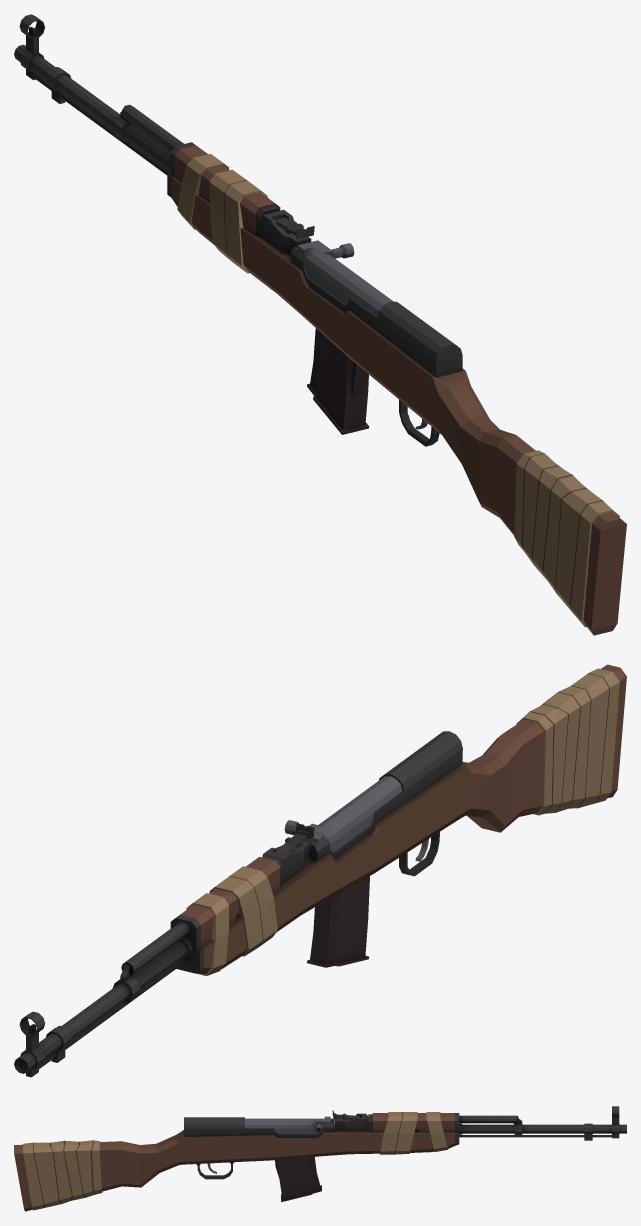
Rendered from sks.glb.
3 renders of one model, top to bottom at view 1: azimuth 30°, elevation 25°; view 2: azimuth 150°, elevation 25°; view 3: azimuth 270°, elevation 25°, orthographic. The views are drawn at different scales.
Parts seen in each view (by area): view 1: Body_lambert8_0, Wrap_stock_lambert8_0, Barrel_Long_lambert8_0, Wrap_barrel_lambert8_0, Magazine_short_Bakelite_Plum_AK_Platform:AK_Platforms_Magazi, Slide_lambert8_0; view 2: Body_lambert8_0, Wrap_stock_lambert8_0, Barrel_Long_lambert8_0, Wrap_barrel_lambert8_0, Magazine_short_Bakelite_Plum_AK_Platform:AK_Platforms_Magazi, Slide_lambert8_0, Ironsights_lambert8_0; view 3: Body_lambert8_0, Wrap_stock_lambert8_0, Barrel_Long_lambert8_0, Wrap_barrel_lambert8_0, Magazine_short_Bakelite_Plum_AK_Platform:AK_Platforms_Magazi, Slide_lambert8_0.
Boxes of the visible parts, x1,y1,x2,y2 form: Body_lambert8_0: (167, 142, 626, 635); Wrap_stock_lambert8_0: (514, 450, 619, 627); Barrel_Long_lambert8_0: (14, 14, 183, 175); Wrap_barrel_lambert8_0: (177, 153, 267, 273); Magazine_short_Bakelite_Plum_AK_Platform:AK_Platforms_Magazi: (307, 328, 369, 434); Slide_lambert8_0: (297, 240, 393, 317); Body_lambert8_0: (170, 664, 626, 974); Wrap_stock_lambert8_0: (516, 668, 619, 815); Barrel_Long_lambert8_0: (14, 921, 192, 1077); Wrap_barrel_lambert8_0: (186, 866, 277, 975); Magazine_short_Bakelite_Plum_AK_Platform:AK_Platforms_Magazi: (307, 876, 369, 967); Slide_lambert8_0: (284, 776, 402, 852); Ironsights_lambert8_0: (274, 823, 314, 857); Body_lambert8_0: (14, 1113, 459, 1211); Wrap_stock_lambert8_0: (23, 1140, 102, 1210); Barrel_Long_lambert8_0: (459, 1106, 626, 1140); Wrap_barrel_lambert8_0: (380, 1112, 448, 1154); Magazine_short_Bakelite_Plum_AK_Platform:AK_Platforms_Magazi: (275, 1157, 321, 1201); Slide_lambert8_0: (245, 1116, 330, 1133).
Bounding box in the file's own units: 3.81 × 14.57 × 79.09.
2 materials, 2 textured.
